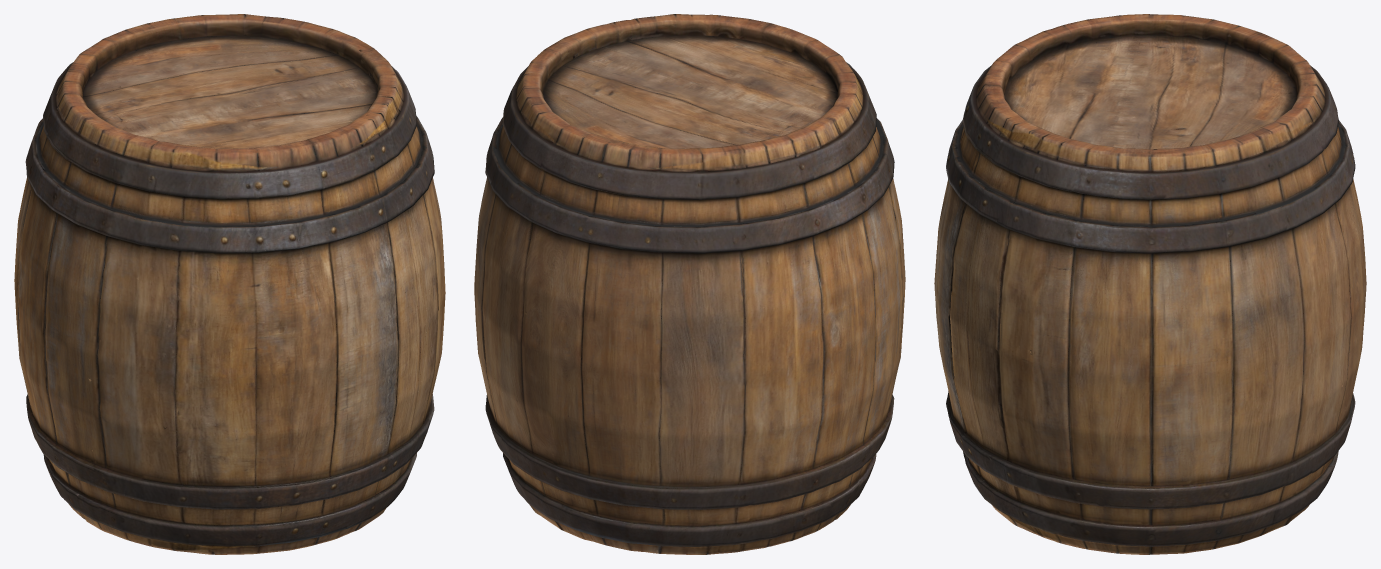
File: Wooden_Barrel_0613144137_texture.fbx
The picture shows the model from 3 angles, left to right: view 1: azimuth 30°, elevation 25°; view 2: azimuth 150°, elevation 25°; view 3: azimuth 270°, elevation 25°; orthographic projection.
Parts seen in each view (by area): view 1: input; view 2: input; view 3: input.
Part boxes in pixels (x1=…): input: x1=14, y1=14, x2=445, y2=554; input: x1=474, y1=14, x2=905, y2=554; input: x1=934, y1=14, x2=1366, y2=554.
Size of the model in its own units: 194 by 198 by 194.
1 material, 1 textured.
